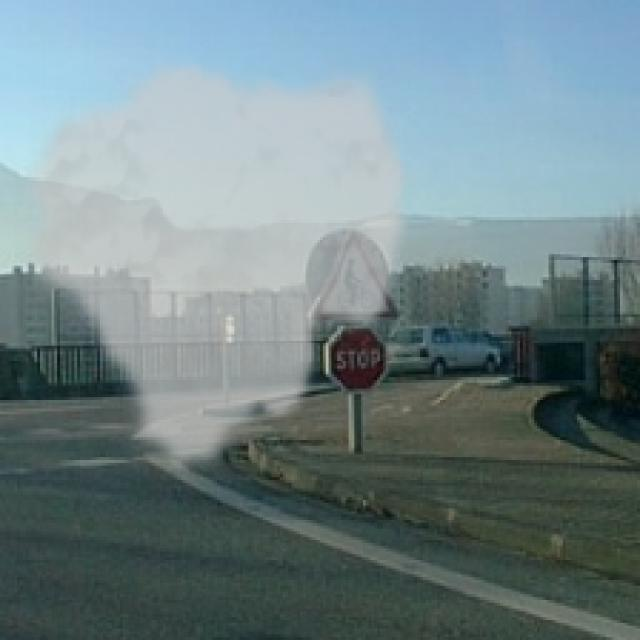smoke: (14, 57, 414, 480)
